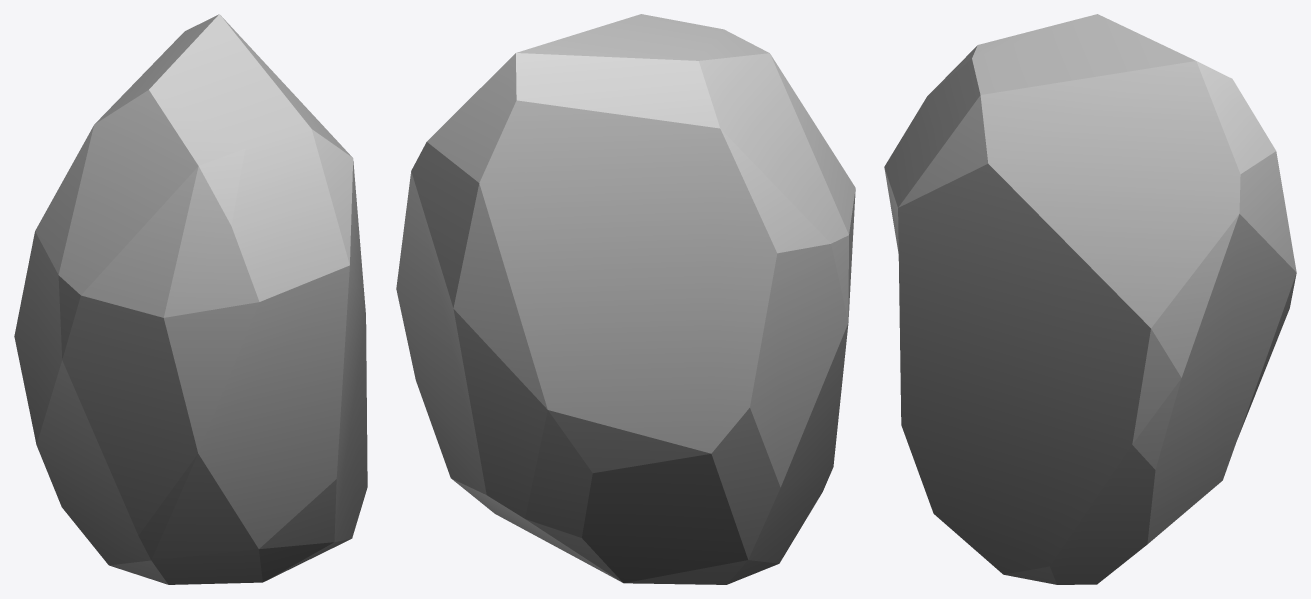
Rendered from Rock_9.fbx.
3 views of the same model, side by side, from view 1: azimuth 30°, elevation 25°; view 2: azimuth 150°, elevation 25°; view 3: azimuth 270°, elevation 25° (orthographic). The views are drawn at different scales.
Visible parts, largest first — view 1: Icosphere.001; view 2: Icosphere.001; view 3: Icosphere.001.
Part boxes in pixels (x1=…): Icosphere.001: x1=14, y1=14, x2=367, y2=584; Icosphere.001: x1=396, y1=14, x2=855, y2=584; Icosphere.001: x1=884, y1=14, x2=1296, y2=584.
Bounding box in the file's own units: 168 × 218 × 165.
